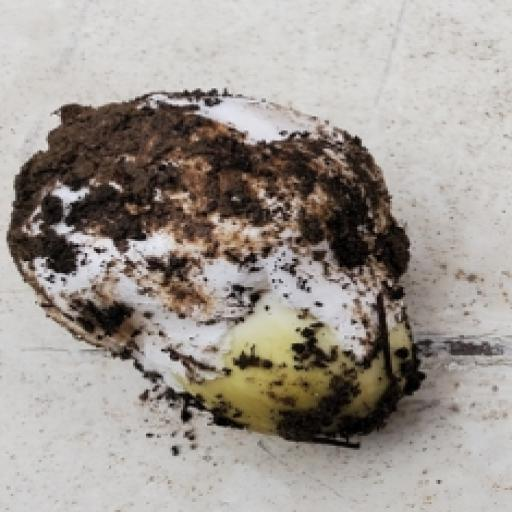mushroom: (0, 55, 471, 464)
